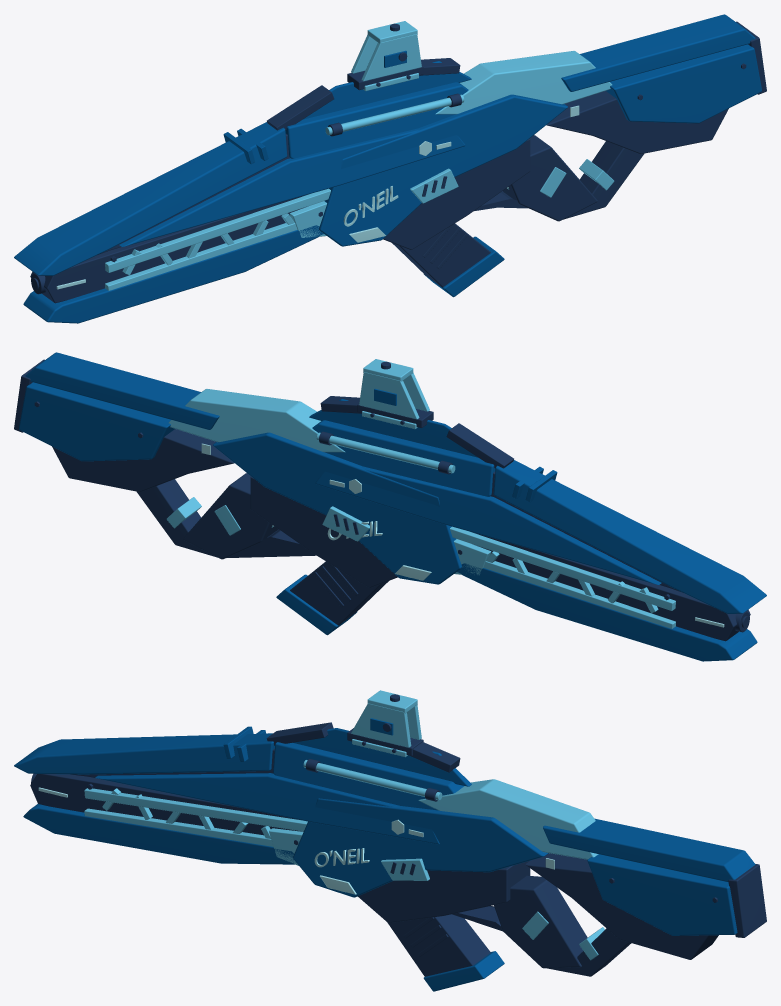
Rendered from rifle_futurista_oneil.fbx.
3 views of the same model, one above another, from view 1: azimuth 30°, elevation 25°; view 2: azimuth 150°, elevation 25°; view 3: azimuth 330°, elevation 25° (orthographic).
Visible parts, largest first — view 1: Receiver_Blue_Main, Upper_Shroud_Front, Upper_Shroud_Flank, Stock_Side_Blue, Lower_Shroud_Blue, Stock_Cheekpiece_Blue, Receiver_Grey_Bridge, Magwell_Dark_Core, Upper_Shroud_Rear, Stock_Dark_Core, Inner_Barrel_Core, Pistol_Grip_Dark (+15 smaller); view 2: Receiver_Blue_Main, Upper_Shroud_Front, Upper_Shroud_Flank, Stock_Side_Blue, Lower_Shroud_Blue, Stock_Cheekpiece_Blue, Receiver_Grey_Bridge, Upper_Shroud_Rear, Magwell_Dark_Core, Stock_Dark_Core, Inner_Barrel_Core, Pistol_Grip_Dark (+14 smaller); view 3: Receiver_Blue_Main, Upper_Shroud_Front, Upper_Shroud_Flank, Stock_Side_Blue, Stock_Cheekpiece_Blue, Lower_Shroud_Blue, Magwell_Dark_Core, Receiver_Grey_Bridge, Pistol_Grip_Dark, Stock_Dark_Core, Upper_Shroud_Rear, Inner_Barrel_Core (+15 smaller).
Boxes of the visible parts, x1,y1,x2,y2 form: Receiver_Blue_Main: (319, 94, 567, 246); Upper_Shroud_Front: (14, 122, 287, 275); Upper_Shroud_Flank: (119, 128, 465, 246); Stock_Side_Blue: (606, 44, 761, 123); Lower_Shroud_Blue: (23, 225, 323, 323); Stock_Cheekpiece_Blue: (561, 14, 755, 91); Receiver_Grey_Bridge: (435, 51, 612, 114); Magwell_Dark_Core: (383, 138, 530, 249); Upper_Shroud_Rear: (285, 82, 468, 158); Stock_Dark_Core: (546, 91, 728, 153); Inner_Barrel_Core: (30, 194, 308, 303); Pistol_Grip_Dark: (503, 135, 597, 221); Receiver_Blue_Main: (213, 432, 461, 584); Upper_Shroud_Front: (493, 460, 766, 613); Upper_Shroud_Flank: (315, 466, 661, 584); Stock_Side_Blue: (19, 382, 174, 461); Lower_Shroud_Blue: (457, 563, 757, 661); Stock_Cheekpiece_Blue: (25, 352, 219, 429); Receiver_Grey_Bridge: (168, 389, 345, 452); Upper_Shroud_Rear: (312, 420, 495, 496); Magwell_Dark_Core: (250, 476, 397, 587); Stock_Dark_Core: (52, 429, 234, 491); Inner_Barrel_Core: (472, 532, 750, 641); Pistol_Grip_Dark: (183, 473, 277, 559); Receiver_Blue_Main: (293, 798, 548, 897); Upper_Shroud_Front: (14, 733, 274, 774); Upper_Shroud_Flank: (95, 773, 439, 844); Stock_Side_Blue: (587, 854, 737, 935); Stock_Cheekpiece_Blue: (543, 818, 755, 882); Lower_Shroud_Blue: (23, 804, 295, 864); Magwell_Dark_Core: (358, 861, 530, 922); Receiver_Grey_Bridge: (418, 779, 598, 859); Pistol_Grip_Dark: (494, 875, 587, 968); Stock_Dark_Core: (525, 853, 718, 959); Upper_Shroud_Rear: (273, 742, 464, 810); Inner_Barrel_Core: (30, 774, 303, 835).
Size of the model in its own units: 0.9193 by 0.3321 by 0.0701.
